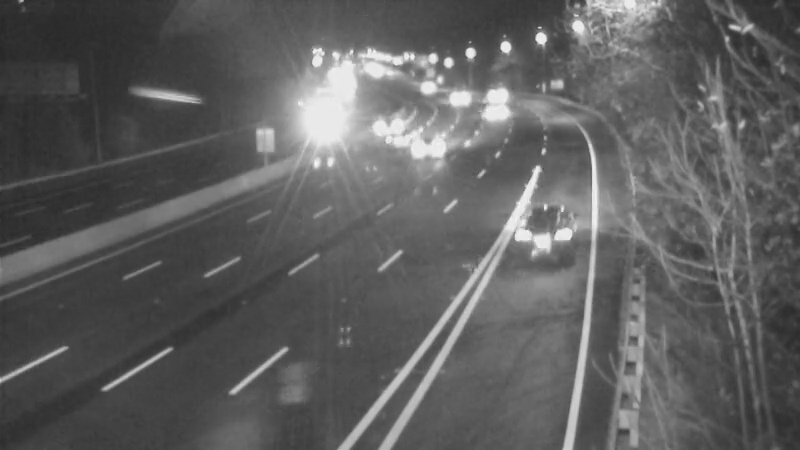vehicle: (507, 190, 587, 270), (401, 63, 451, 113), (467, 71, 517, 121), (433, 70, 483, 120), (468, 91, 518, 141), (363, 97, 413, 147), (365, 107, 415, 157), (402, 119, 452, 169), (296, 92, 346, 142)
